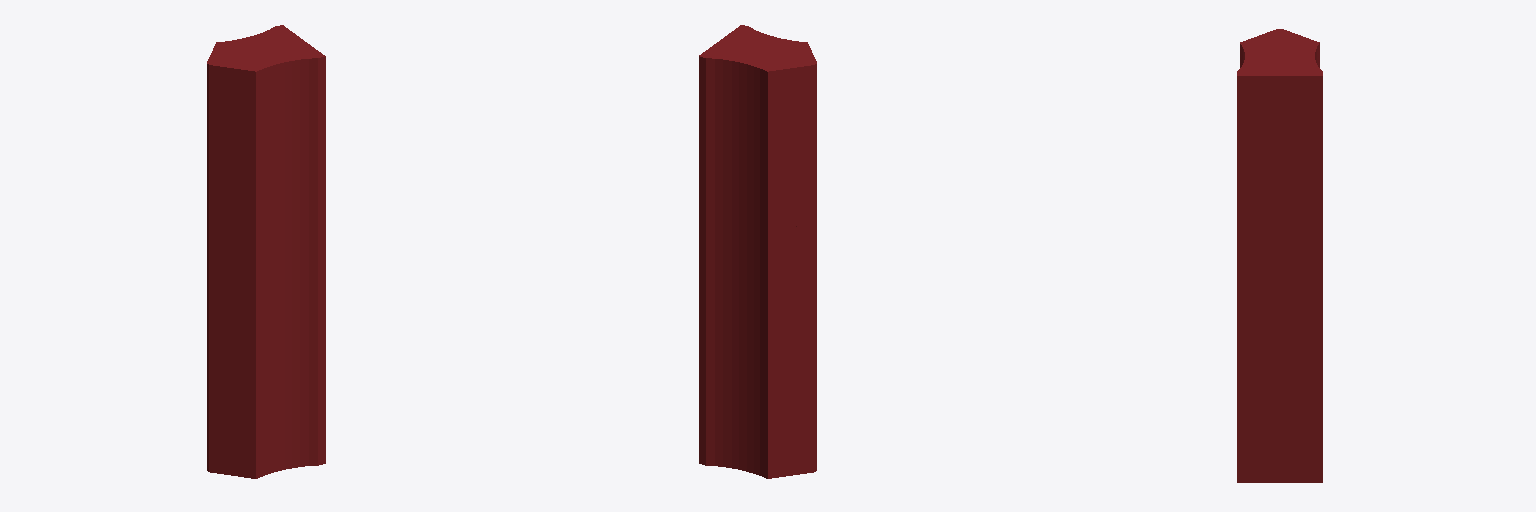
3 renders of one model, left to right at view 1: azimuth 30°, elevation 25°; view 2: azimuth 150°, elevation 25°; view 3: azimuth 270°, elevation 25°, orthographic.
Visible parts, largest first — view 1: House_Wall_(Tembok_Rumah); view 2: House_Wall_(Tembok_Rumah); view 3: House_Wall_(Tembok_Rumah).
Part boxes in pixels (x1,y1,x2,y2): House_Wall_(Tembok_Rumah): (207, 25, 325, 478); House_Wall_(Tembok_Rumah): (699, 25, 816, 478); House_Wall_(Tembok_Rumah): (1237, 29, 1322, 482).
Size of the model in its own units: 2.82 by 11.42 by 2.2.